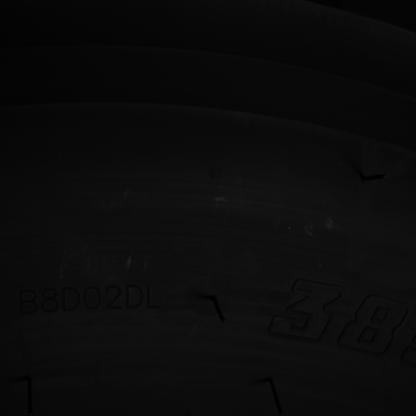ocr: (17, 280, 162, 318)
